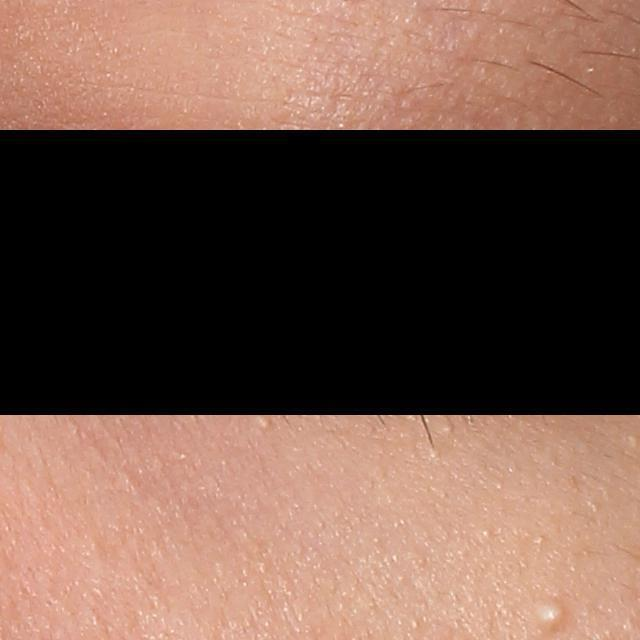other: (539, 600, 570, 633), (256, 413, 272, 433), (441, 421, 458, 433)
